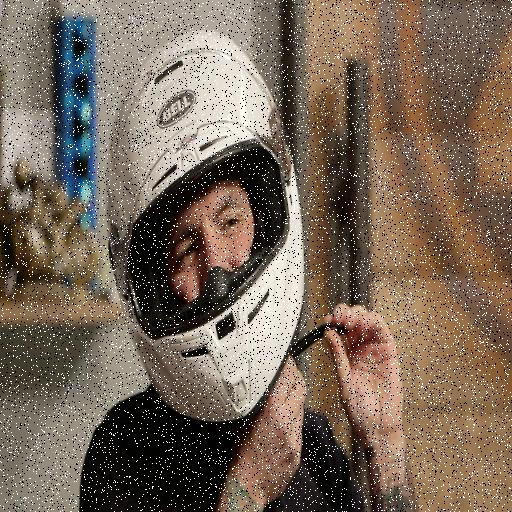Helmet: (100, 50, 308, 424)
